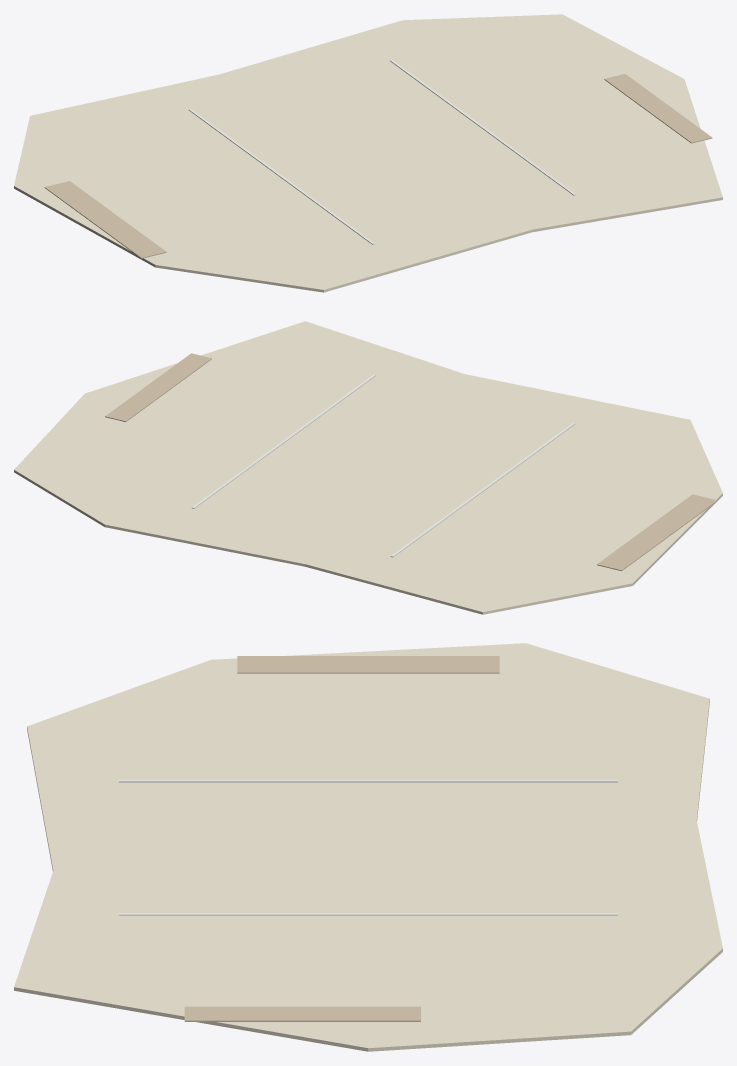
File: prop-parchment-sheet-blank.fbx
The picture shows the model from 3 angles, top to bottom: view 1: azimuth 30°, elevation 25°; view 2: azimuth 150°, elevation 25°; view 3: azimuth 270°, elevation 25°; orthographic projection. The views are drawn at different scales.
Visible parts, largest first — view 1: prop-parchment-sheet-blank; view 2: prop-parchment-sheet-blank; view 3: prop-parchment-sheet-blank.
Boxes of the visible parts, x1,y1,x2,y2 form: prop-parchment-sheet-blank: [14, 14, 722, 292]; prop-parchment-sheet-blank: [14, 321, 722, 614]; prop-parchment-sheet-blank: [14, 643, 722, 1051].
Bounding box in the file's own units: 73 × 0.41 × 54.
